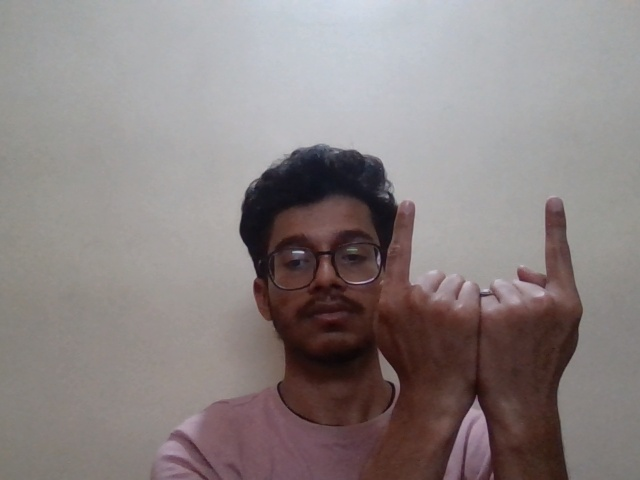when: (364, 188, 613, 390)
